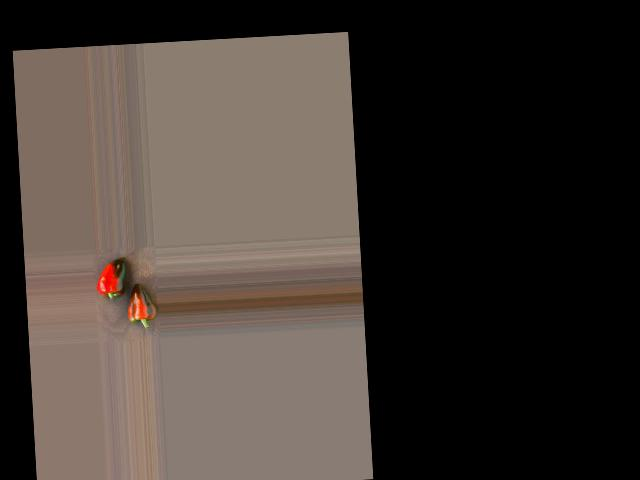bell_pepper: (93, 254, 130, 314)
